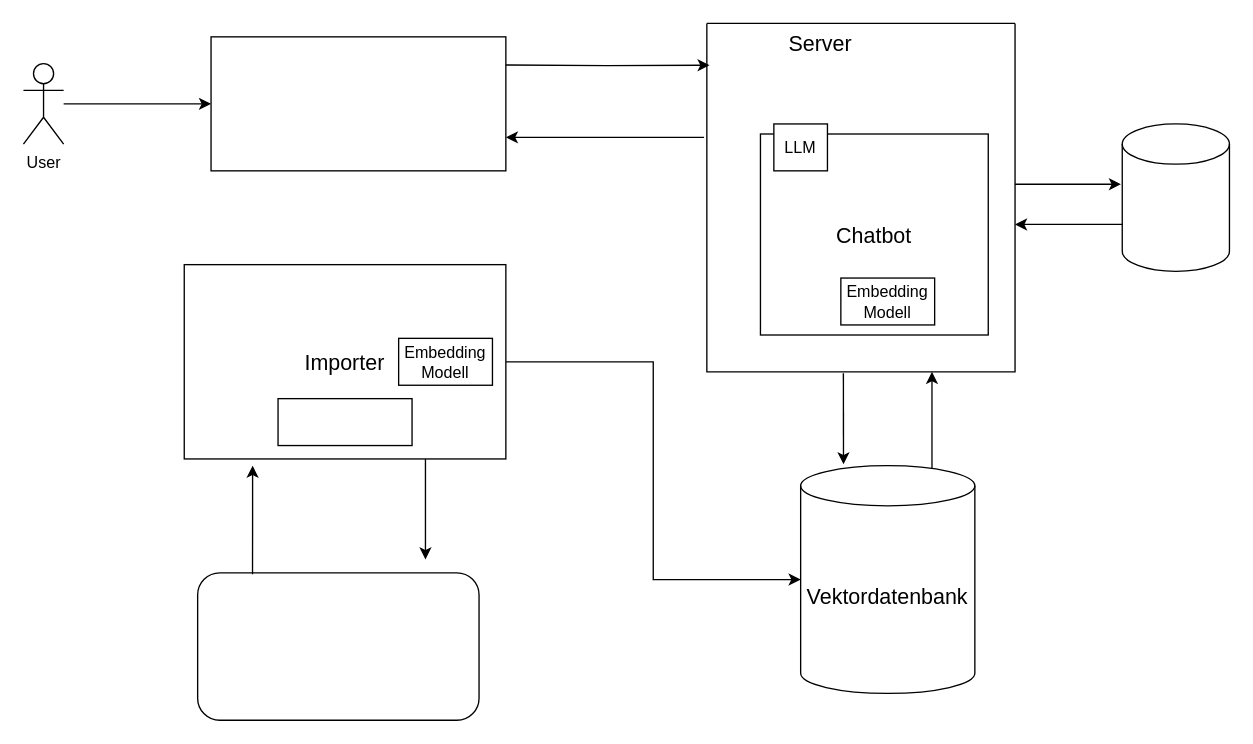
Image size: 1253x744. Some labels were removed from this diagram. The centre of each missing label's shape, as x and y in pixels:
Chat System: point (358, 103)
Datenquelle: point (337, 646)
Loader: point (344, 421)
Nachrichten Datenbank: point (1175, 197)
